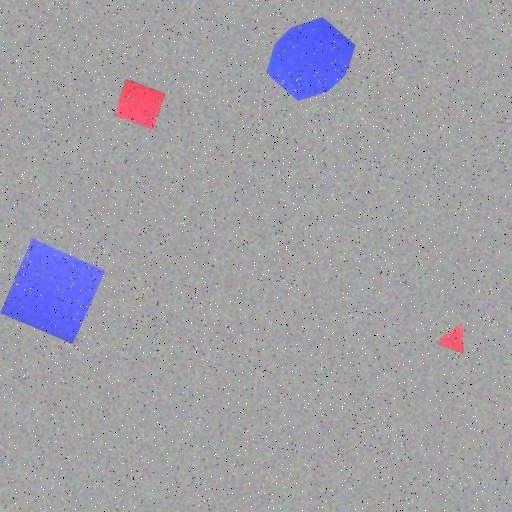BLUE_SQUARE: (0, 238, 105, 344)
RED_SQUARE: (114, 78, 166, 130)
